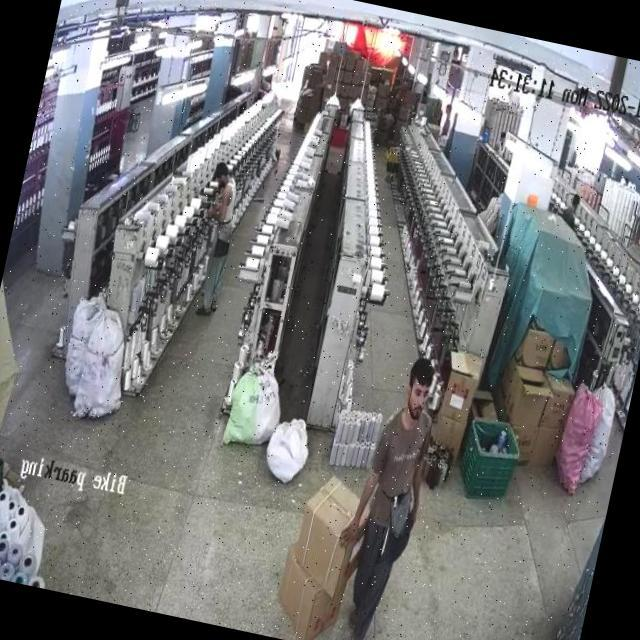person: (328, 353, 449, 640), (174, 144, 255, 354)
